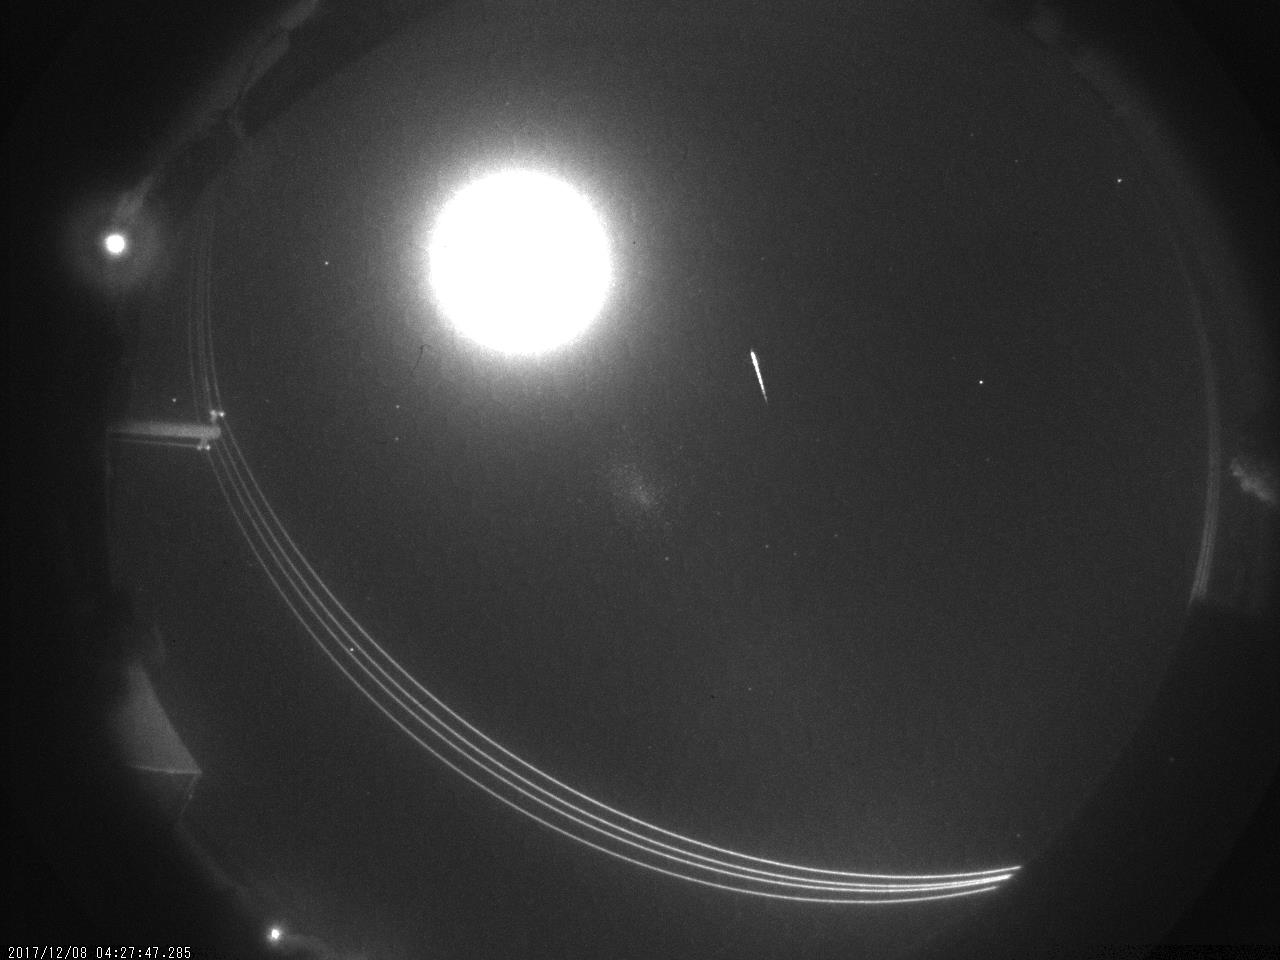meteor: (738, 343, 776, 407)
